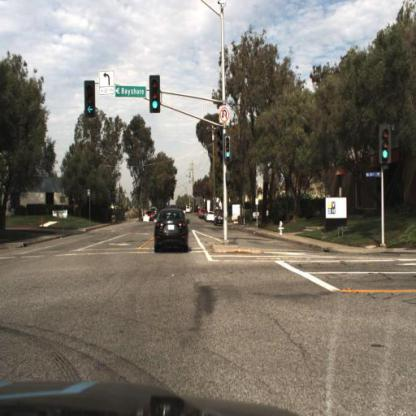car: (154, 207, 191, 256), (213, 208, 229, 228)
trafficLight-Green: (150, 75, 162, 115), (225, 135, 232, 163)
trafficLight-GreenLeft: (84, 81, 96, 120)
